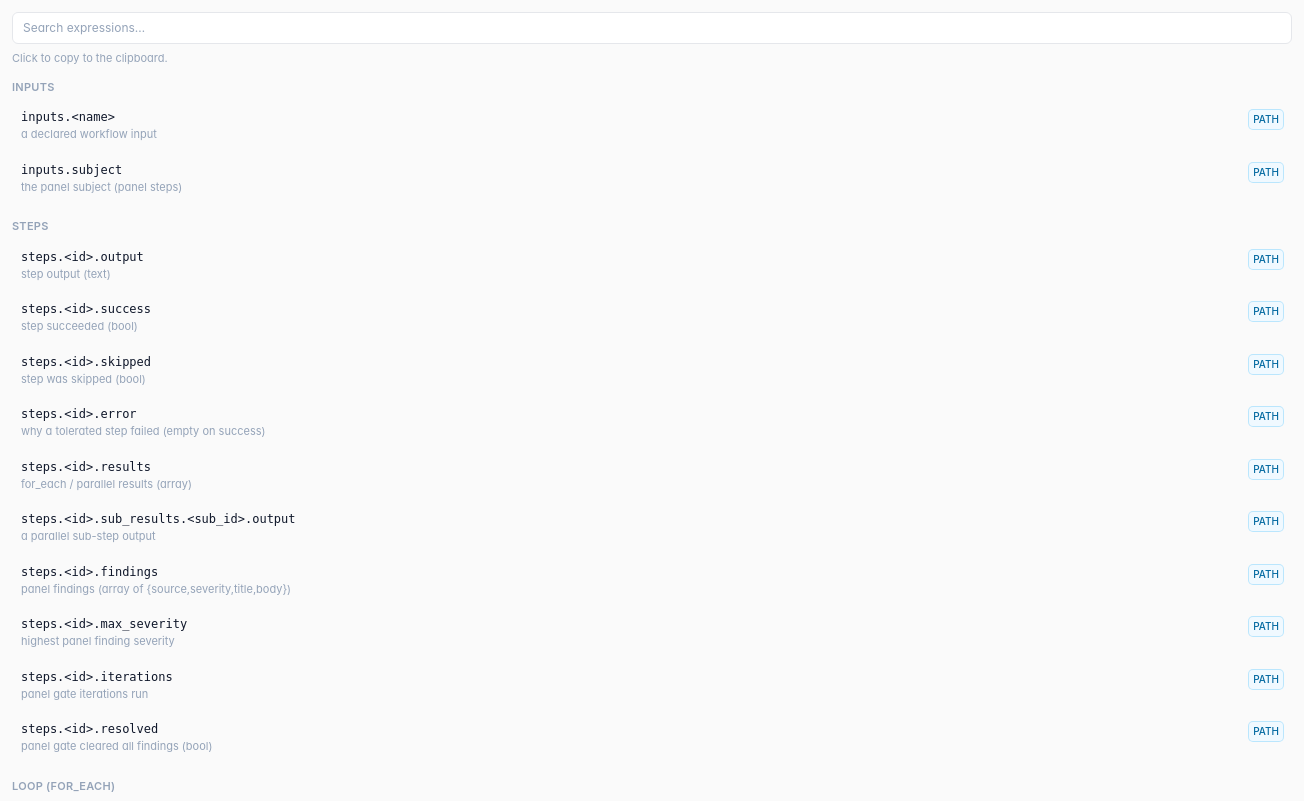
Test: ExpressionReference › shows an empty state when nothing matches
Step 1. Type "zzznope" into the search field labelled "Search expressions" → (652, 28), box [12,12,1292,44]
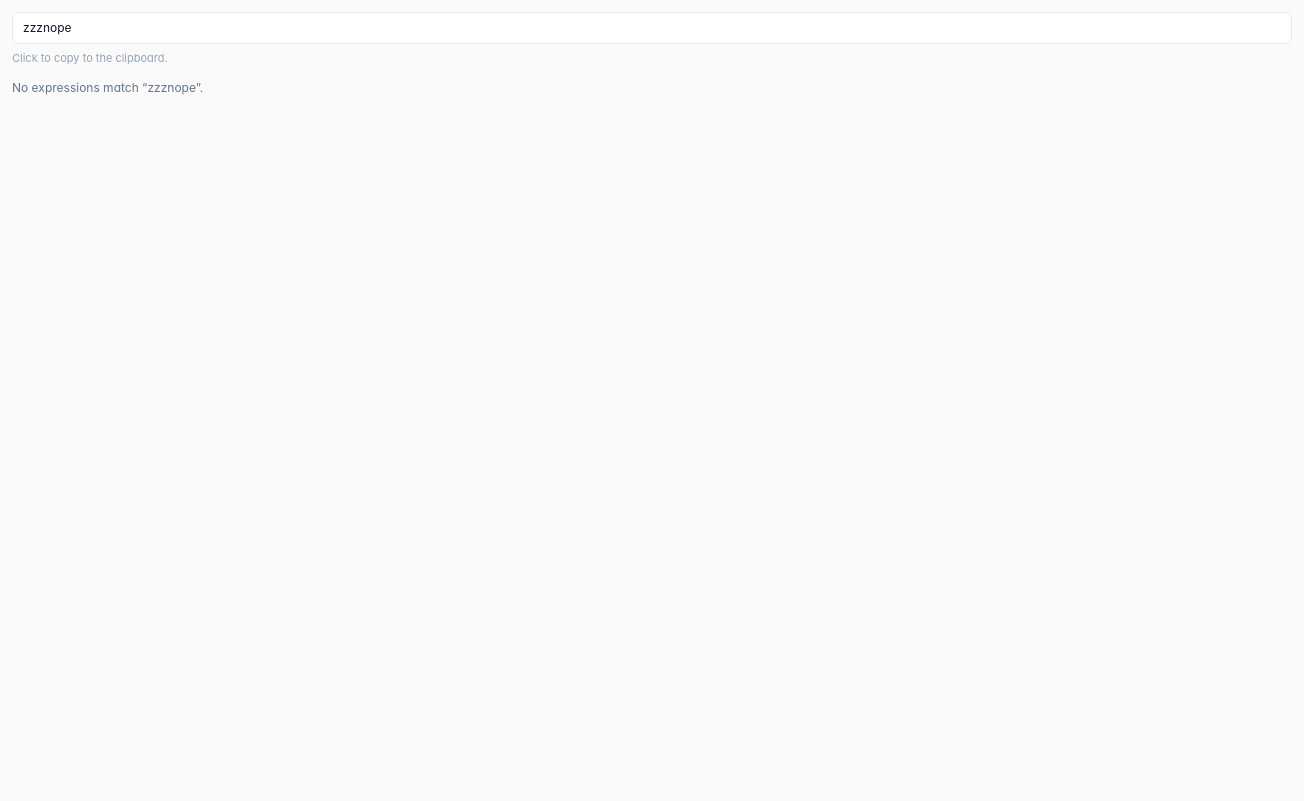
Check: the text "No expressions match “zzznope”." is shown, box [12,80,203,94]
